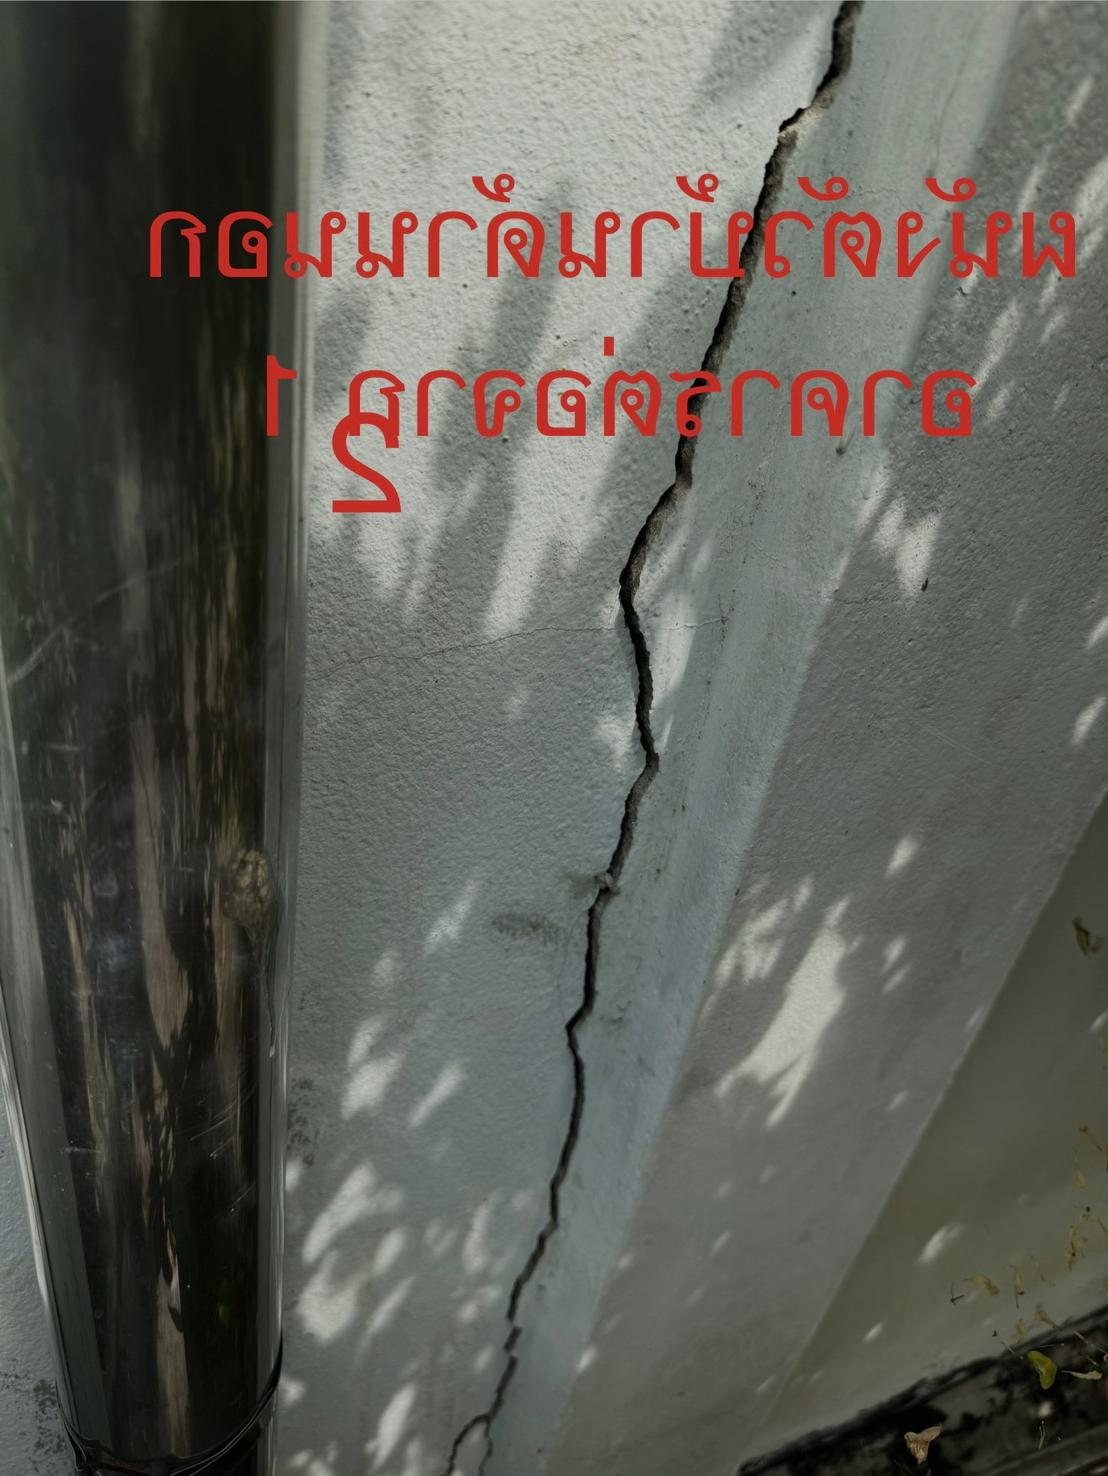High: (429, 462, 734, 1461)
